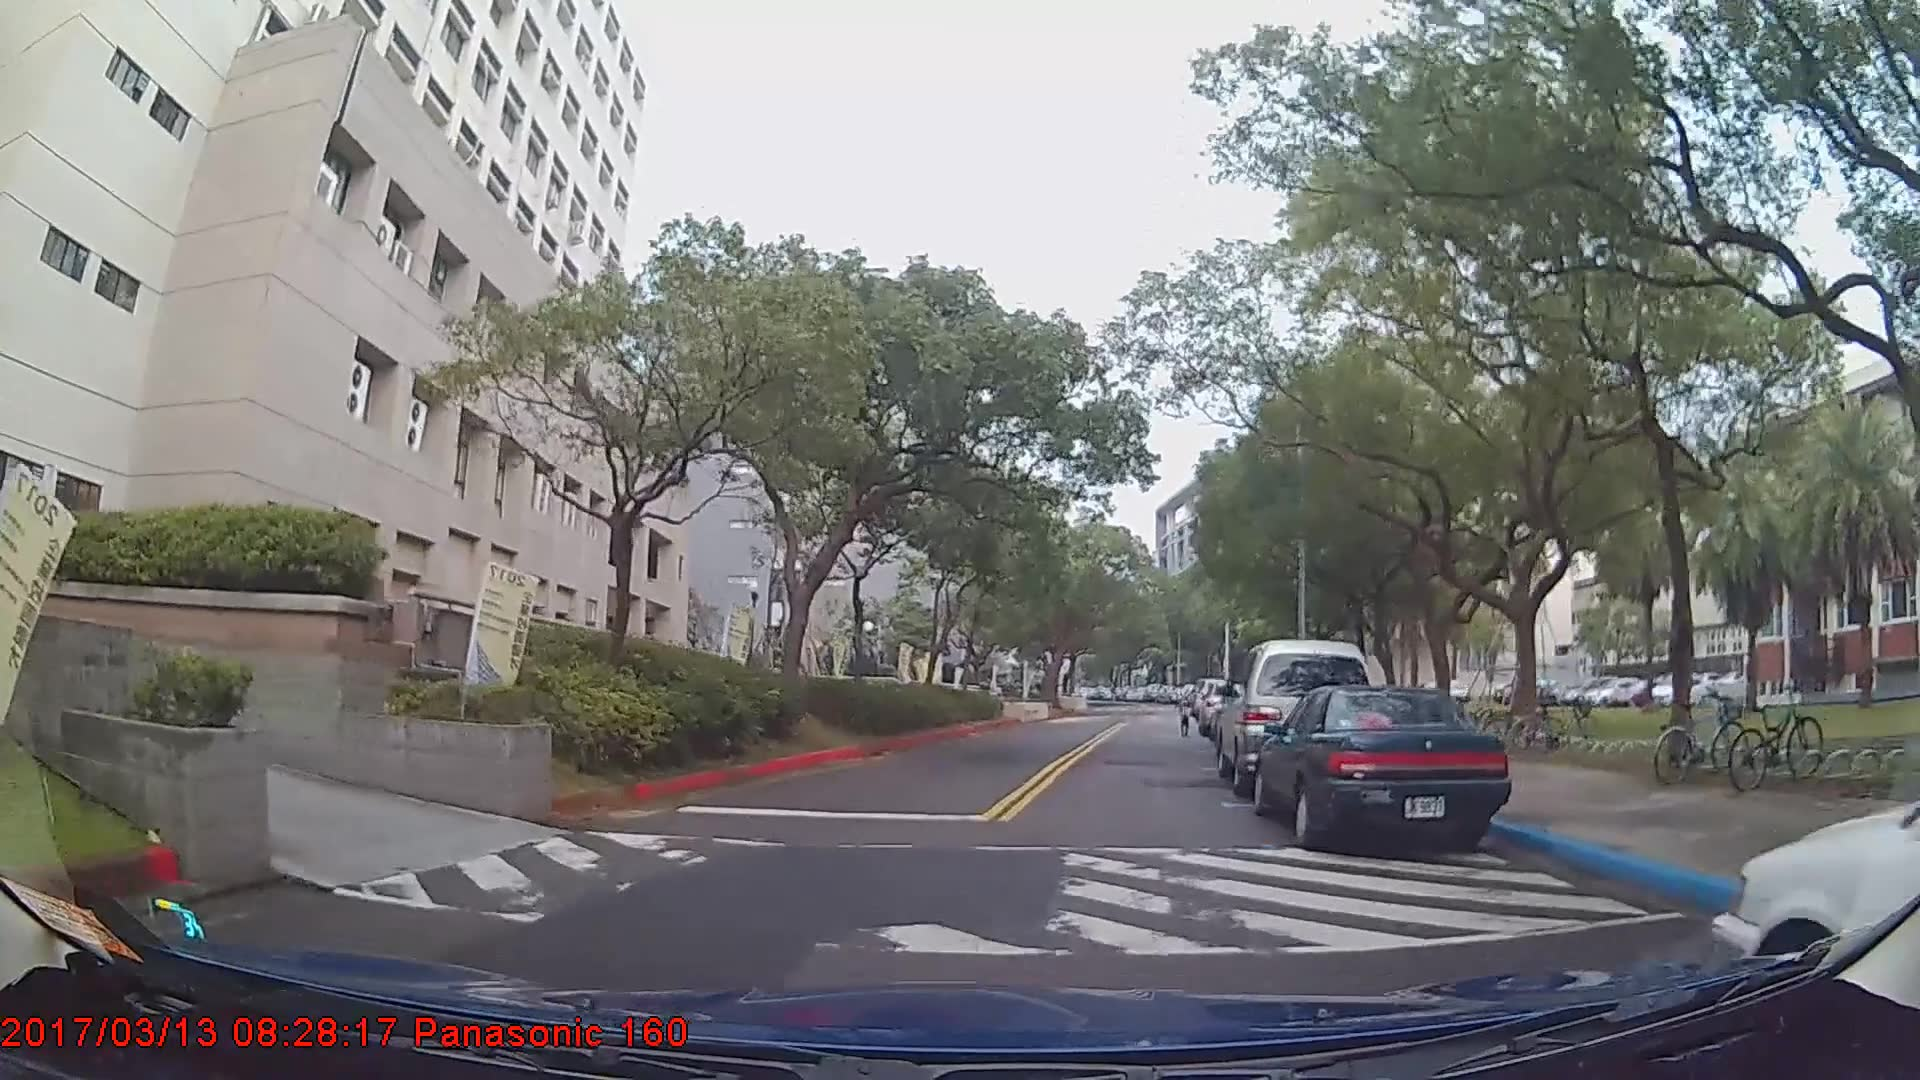vehicle: (1712, 796, 1920, 1015), (1253, 680, 1511, 848), (1220, 637, 1382, 798)
